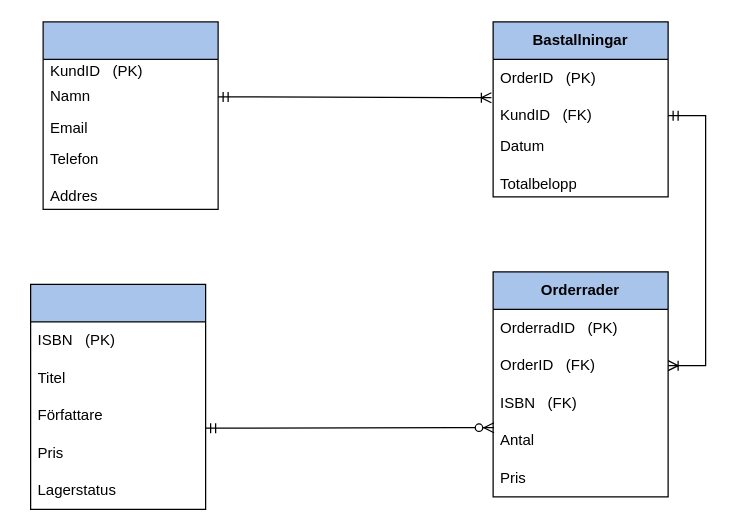
Some shapes in this 739 by 531 pixel diagram are drawn without their labels. Here are the shapes that lost their labels. From the top down, the box of each, then its label:
(42, 21, 218, 209): Kunder
(29, 283, 206, 509): Bocker
